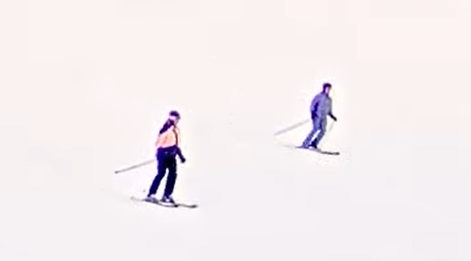skier: (114, 108, 199, 209), (271, 81, 340, 155)
